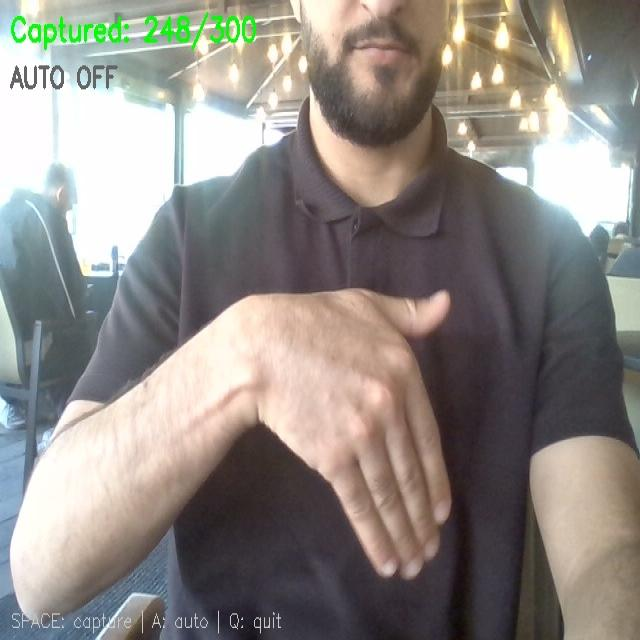Hand: (249, 290, 450, 578)
